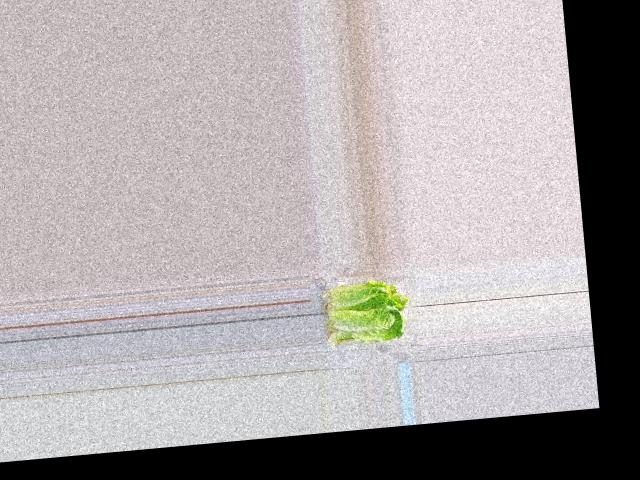lettuce: (326, 277, 411, 346)
